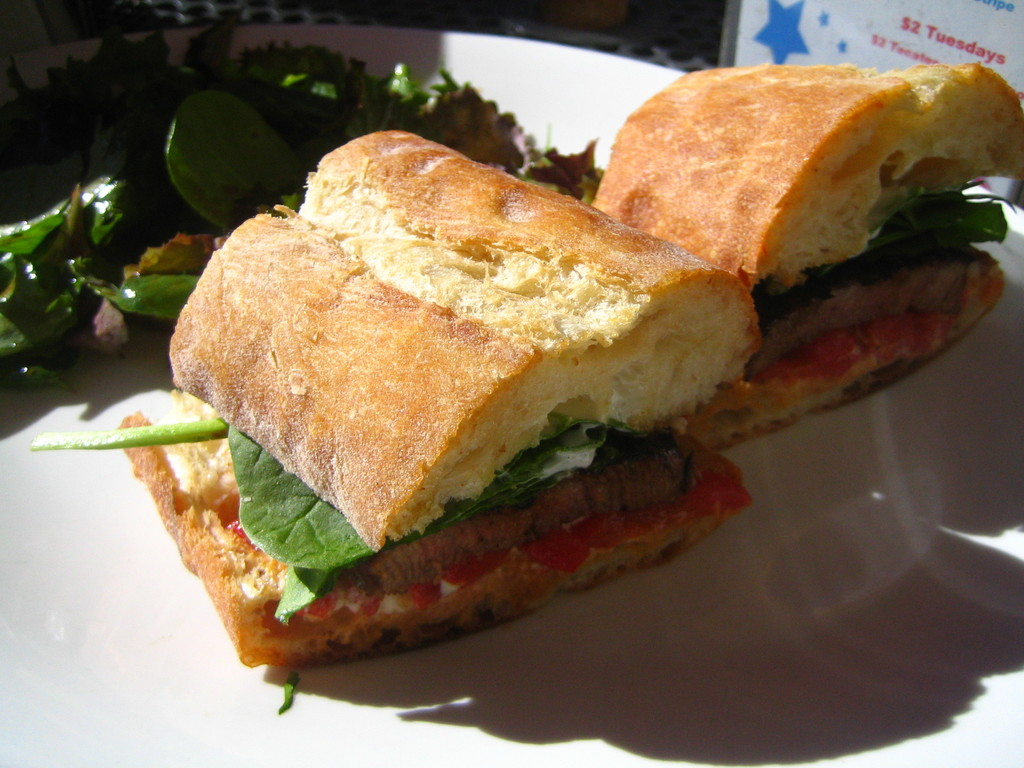sandwich: (119, 130, 749, 669), (591, 64, 1023, 442)
